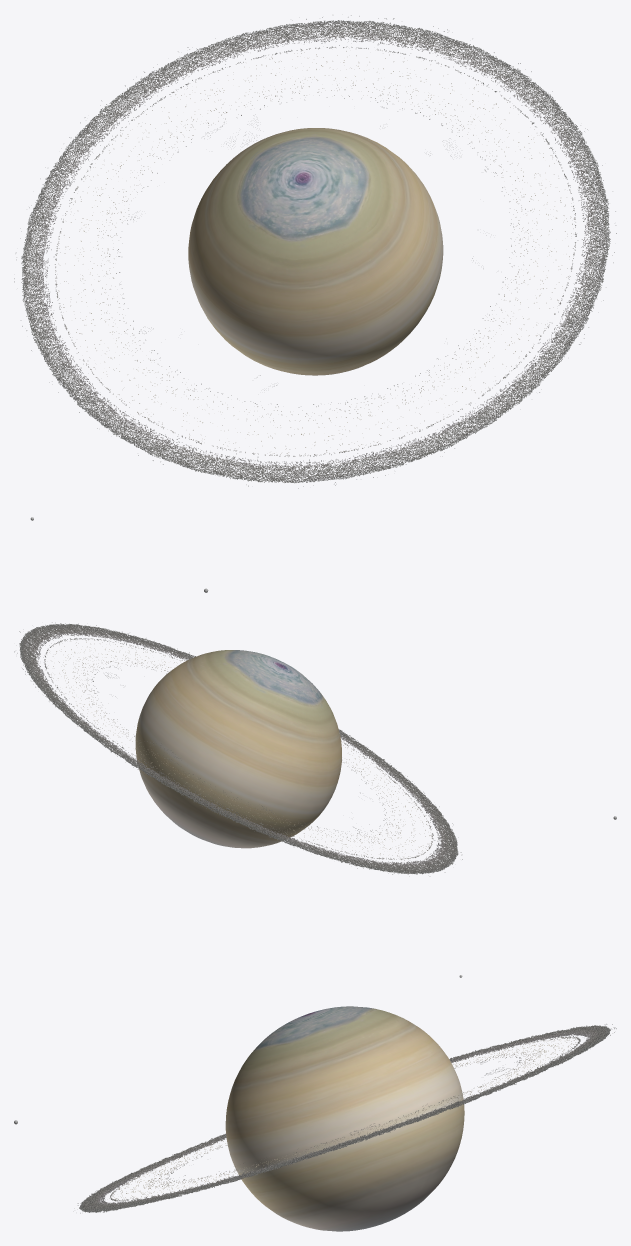
Rendered from saturn-compressed.glb.
The picture shows the model from 3 angles, top to bottom: view 1: azimuth 30°, elevation 25°; view 2: azimuth 150°, elevation 25°; view 3: azimuth 270°, elevation 25°; orthographic projection. The views are drawn at different scales.
Parts seen in each view (by area): view 1: Saturn1_A_saturn1_A_0, Saturn2_A_saturn2_A_0; view 2: Saturn1_A_saturn1_A_0, Saturn2_A_saturn2_A_0; view 3: Saturn1_A_saturn1_A_0, Saturn2_A_saturn2_A_0.
Part boxes in pixels (x1,y1,x2,y2): Saturn1_A_saturn1_A_0: [188, 128, 443, 375]; Saturn2_A_saturn2_A_0: [14, 15, 616, 488]; Saturn1_A_saturn1_A_0: [135, 650, 341, 848]; Saturn2_A_saturn2_A_0: [14, 622, 462, 876]; Saturn1_A_saturn1_A_0: [225, 1006, 464, 1231]; Saturn2_A_saturn2_A_0: [73, 1024, 616, 1213].
Bounding box in the file's own units: 29.21 × 17.22 × 30.18.
4 materials, 2 textured.
